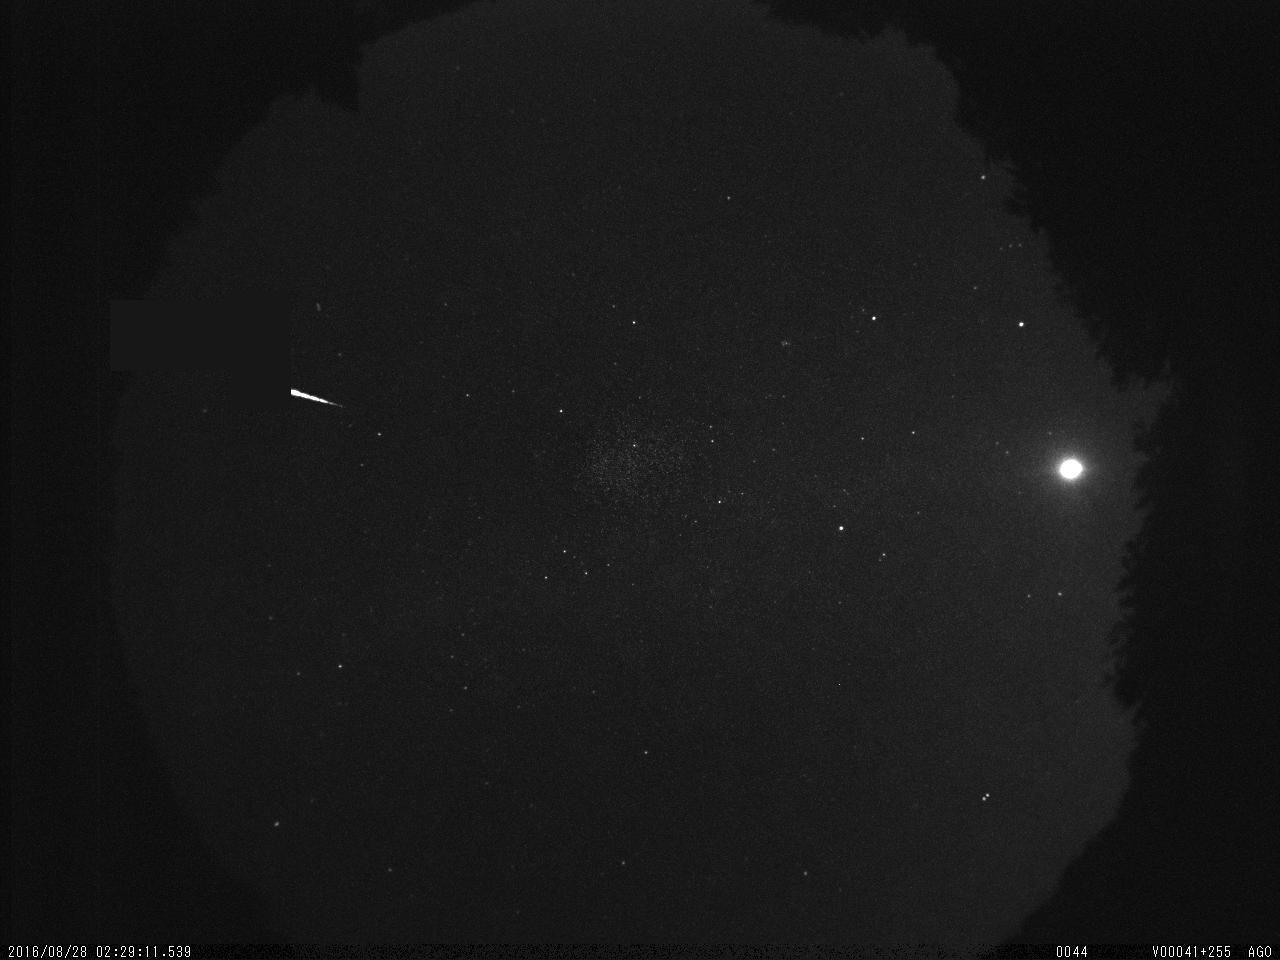meteor: (263, 368, 357, 422)
